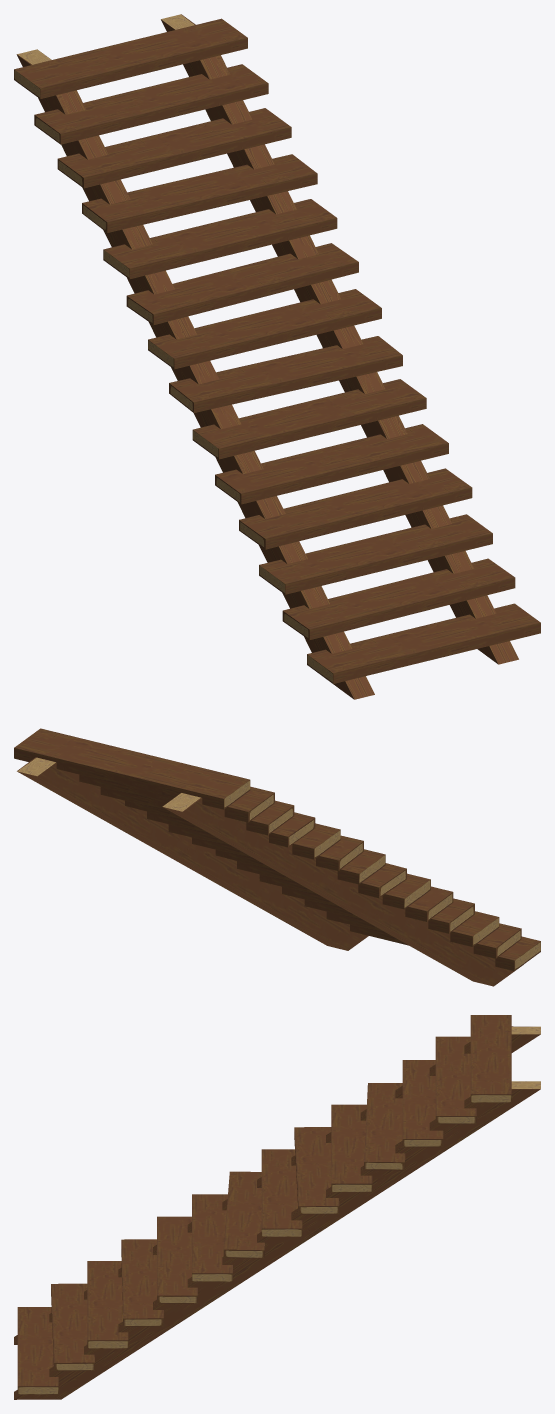
File: Stair_Interior_Simple.glb
The picture shows the model from 3 angles, top to bottom: view 1: azimuth 30°, elevation 25°; view 2: azimuth 150°, elevation 25°; view 3: azimuth 270°, elevation 25°; orthographic projection. The views are drawn at different scales.
Visible parts, largest first — view 1: Stair_Interior_Simple; view 2: Stair_Interior_Simple; view 3: Stair_Interior_Simple.
Boxes of the visible parts, left/top/right/bottom form: Stair_Interior_Simple: left=14, top=14, right=540, bottom=699; Stair_Interior_Simple: left=14, top=728, right=540, bottom=986; Stair_Interior_Simple: left=14, top=1015, right=540, bottom=1399.
Bounding box in the file's own units: 1.68 × 3.03 × 4.62.
Materials: 1 (1 with a texture image).
